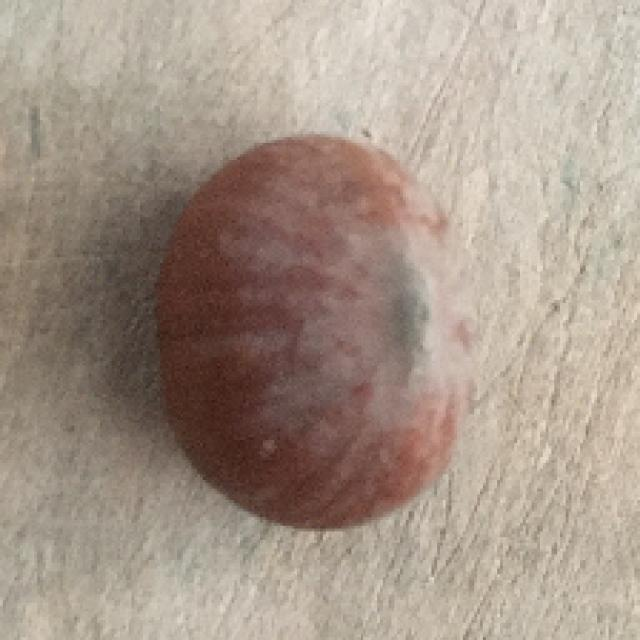qualityHazelnut: (121, 121, 482, 543)
